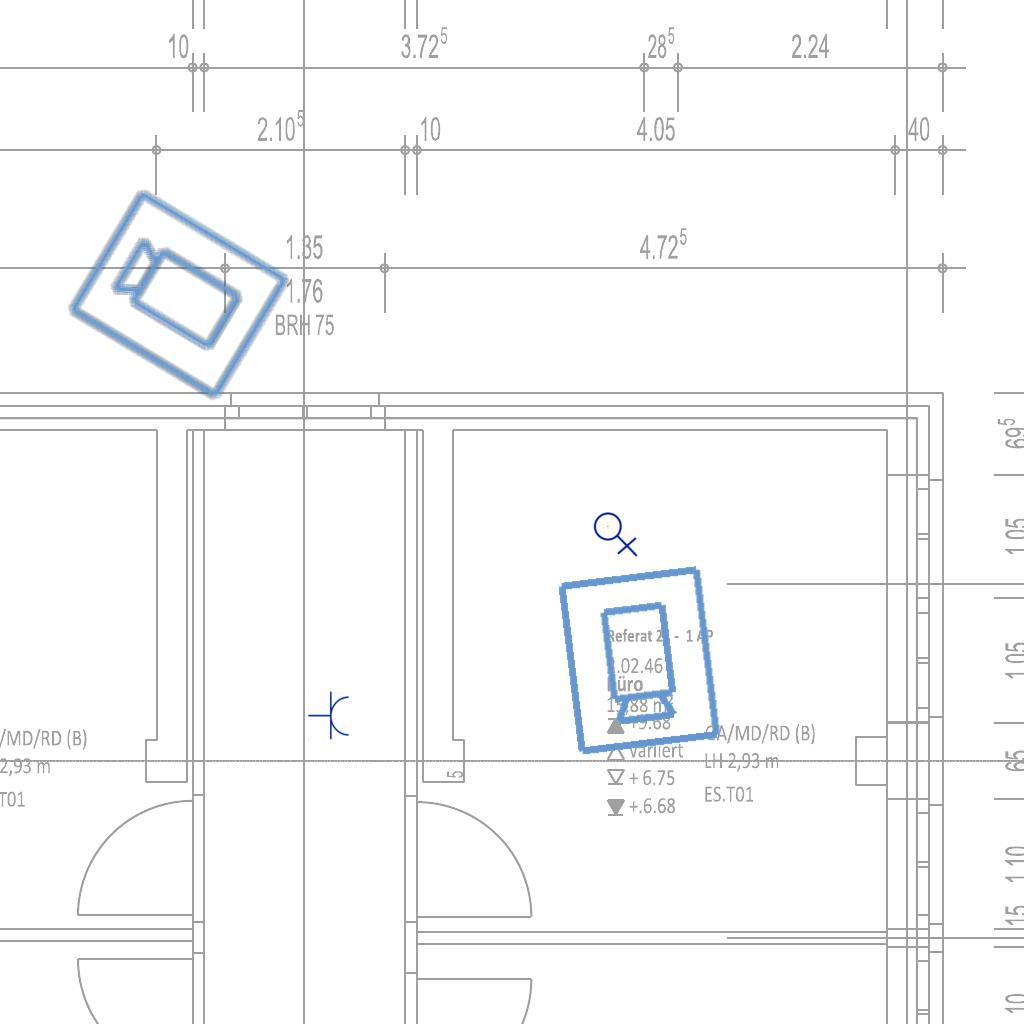Elektroanschluss_allgemein_230V_Geraeteanschlussdose_230V: (593, 508, 640, 557)
KFO_Kamera_mit_Festobjektiv: (62, 181, 298, 407), (550, 560, 726, 760)
Schukosteckdose_einfach: (308, 691, 351, 741)
